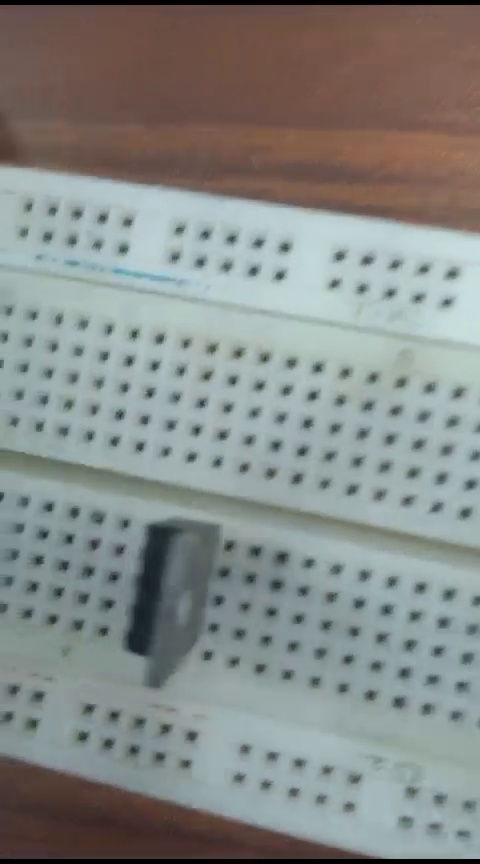voltage regulator: (116, 511, 224, 683)
